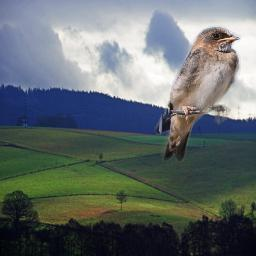Swallow: (154, 25, 241, 162)
